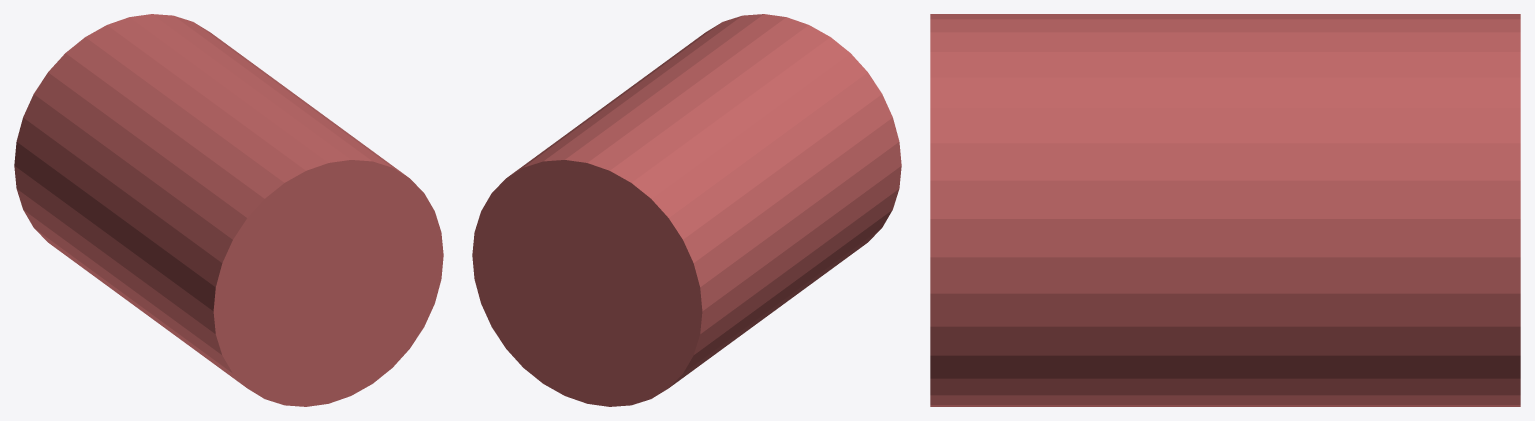
Rendered from muscular.glb.
3 views of the same model, side by side, from view 1: azimuth 30°, elevation 25°; view 2: azimuth 150°, elevation 25°; view 3: azimuth 270°, elevation 25° (orthographic). The views are drawn at different scales.
Visible parts, largest first — view 1: geometry_0; view 2: geometry_0; view 3: geometry_0.
Part boxes in pixels (x1=…): geometry_0: x1=14, y1=14, x2=443, y2=406; geometry_0: x1=472, y1=14, x2=901, y2=406; geometry_0: x1=930, y1=14, x2=1520, y2=406.
Size of the model in its own units: 2 by 2 by 3.
